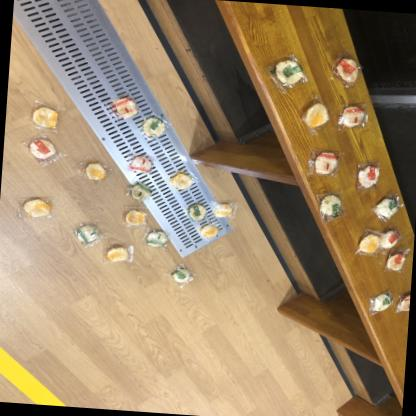green_setoshio: (262, 48, 312, 94), (310, 186, 351, 224), (138, 110, 172, 143), (69, 219, 107, 248), (364, 288, 395, 320), (374, 192, 405, 220), (142, 228, 175, 253), (168, 263, 198, 289), (126, 182, 157, 204), (184, 199, 210, 223)
red_setoshio: (22, 134, 64, 169), (304, 146, 342, 180), (330, 53, 364, 88), (354, 158, 385, 192), (106, 93, 140, 123), (340, 102, 370, 132), (130, 154, 156, 175), (386, 251, 410, 273), (382, 228, 404, 250), (398, 288, 411, 314)
yellow_setoshio: (27, 100, 70, 134), (17, 193, 59, 224), (297, 96, 333, 132), (77, 154, 114, 186), (103, 240, 139, 268), (118, 203, 152, 230), (166, 168, 201, 193), (357, 230, 384, 259), (211, 200, 243, 222), (198, 222, 224, 242)
